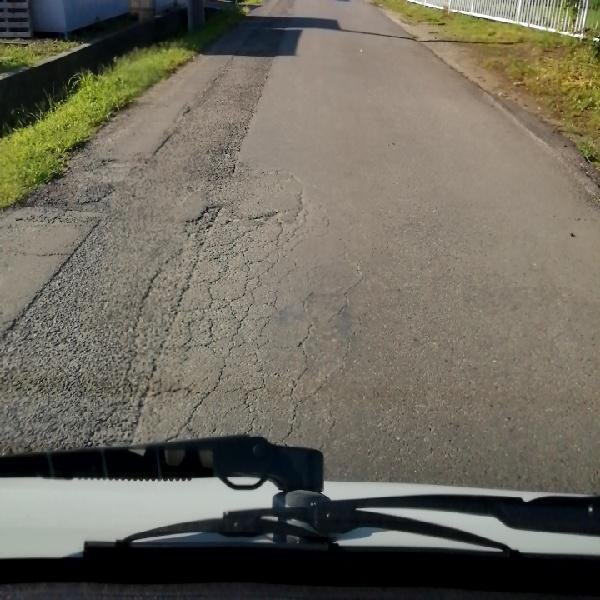D20: (110, 171, 348, 456)
D40: (175, 192, 238, 252)
